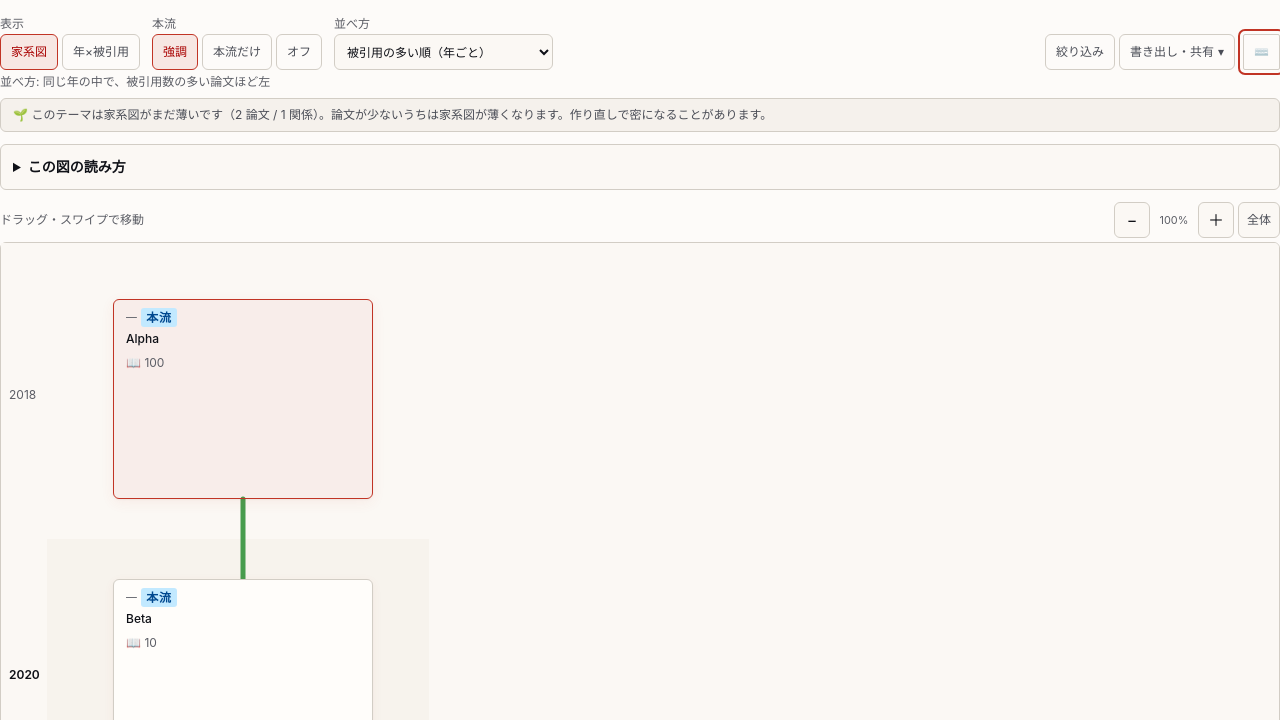
Scenario: keyboard help dialog › opens from the toolbar, keeps Tab inside, closes on Esc and returns focus
The width and height of the screenshot is (1280, 720).
Click the button named "キーボード操作の一覧" at (1262, 52), box [1243,34,1279,70]
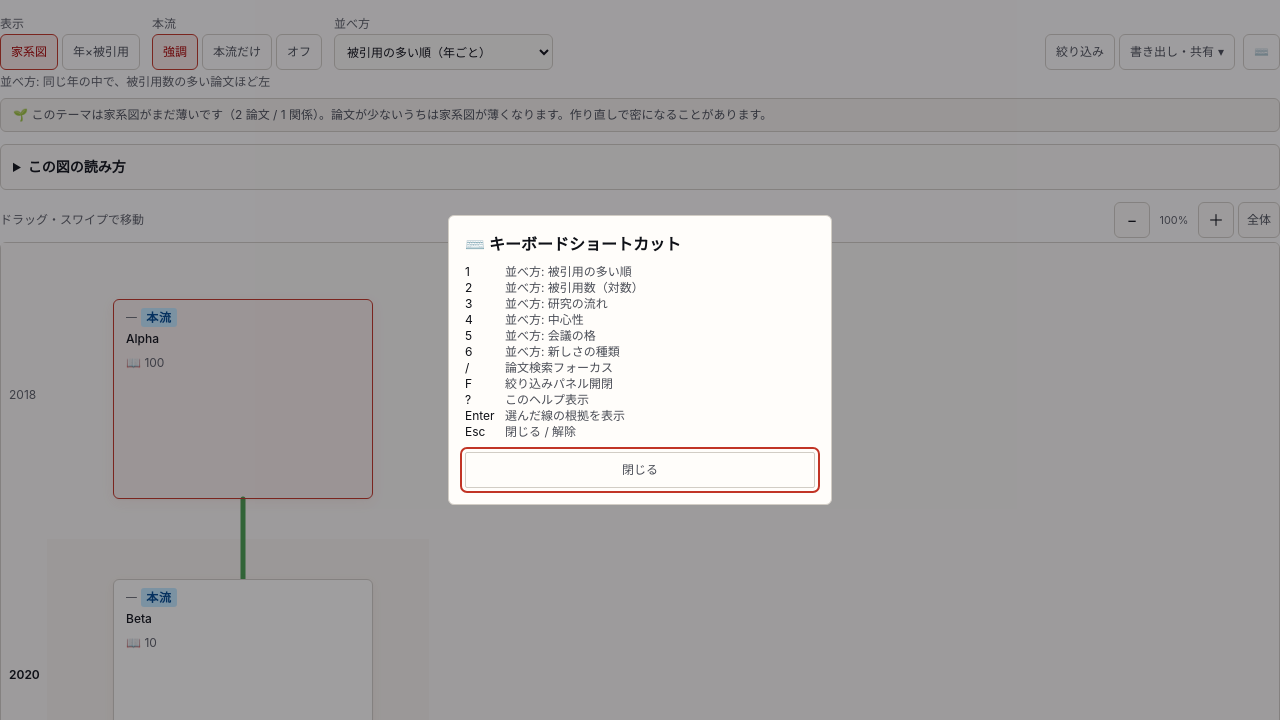
Press Tab in the dialog "キーボードショートカット"
Press Escape in the dialog "キーボードショートカット"
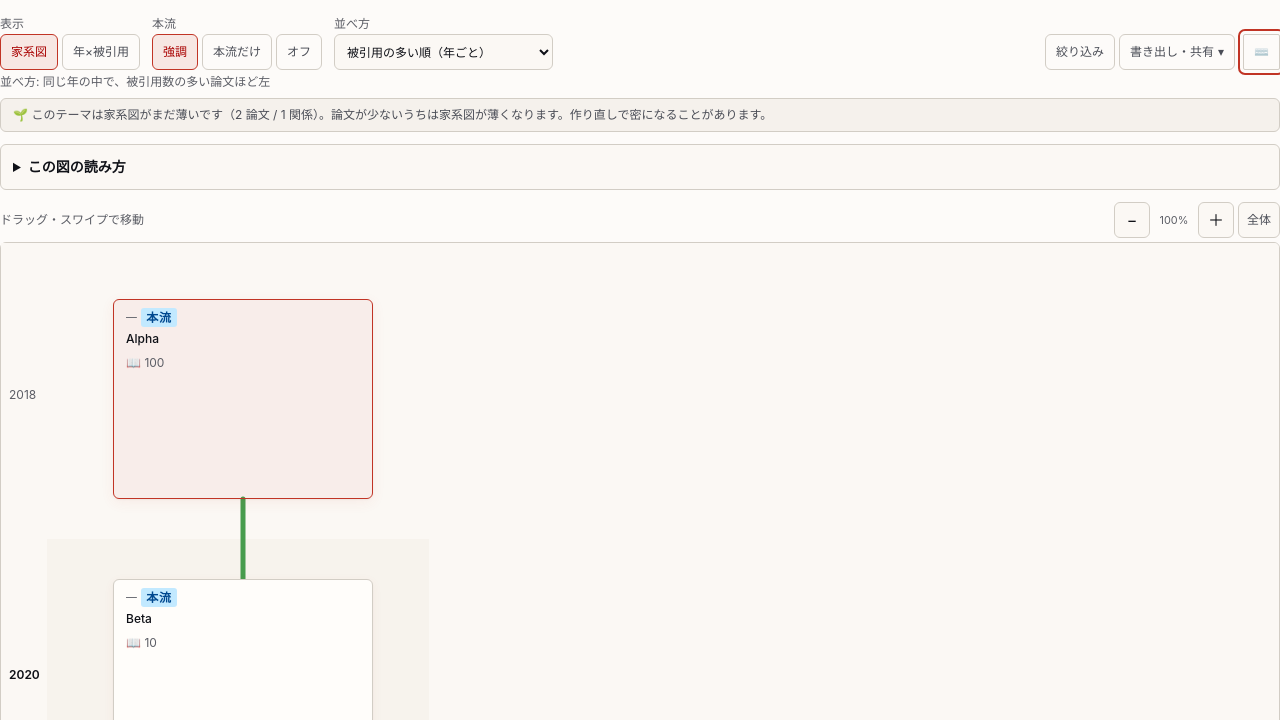
Now the heading "キーボードショートカット" is gone
